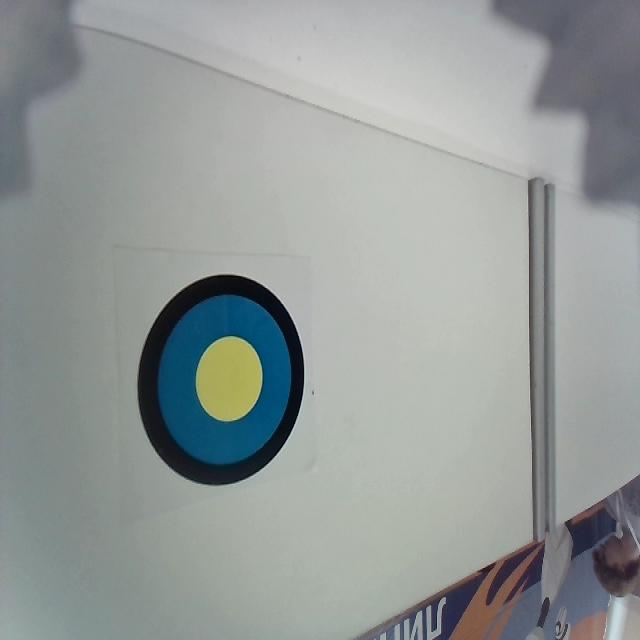cogn: (136, 271, 308, 489)
